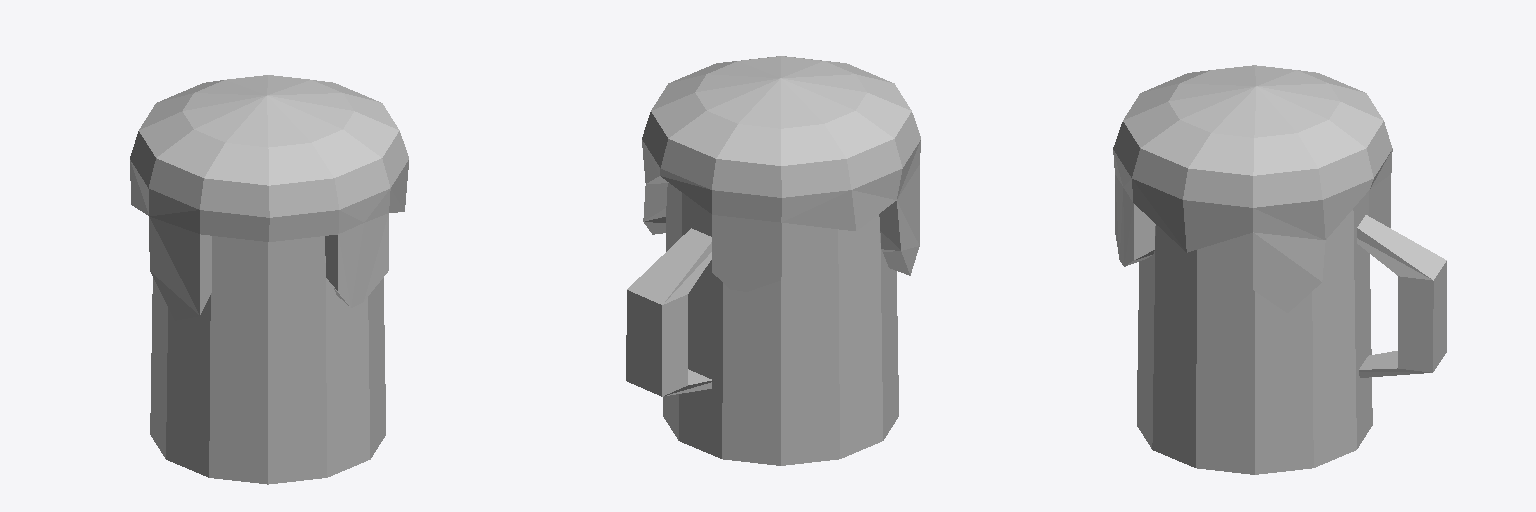
Rendered from jarracerbezaLow.obj.
3 views of the same model, side by side, from view 1: azimuth 30°, elevation 25°; view 2: azimuth 150°, elevation 25°; view 3: azimuth 270°, elevation 25° (orthographic).
Visible parts, largest first — view 1: cerbeza.low.fin_Cube.008; view 2: cerbeza.low.fin_Cube.008; view 3: cerbeza.low.fin_Cube.008.
Part boxes in pixels (x1,y1,x2,y2): cerbeza.low.fin_Cube.008: (130,75,408,484); cerbeza.low.fin_Cube.008: (626,56,920,465); cerbeza.low.fin_Cube.008: (1113,65,1446,474).
Bounding box in the file's own units: 0.7161 × 0.9567 × 0.8553.